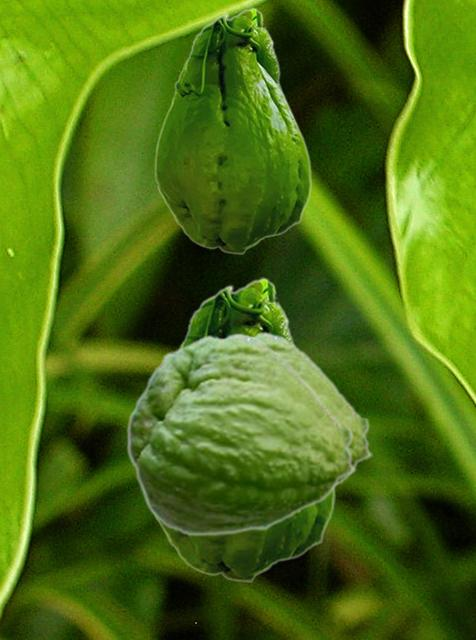sayote: (144, 277, 335, 582), (126, 332, 357, 536), (154, 7, 311, 254), (233, 331, 373, 488)
